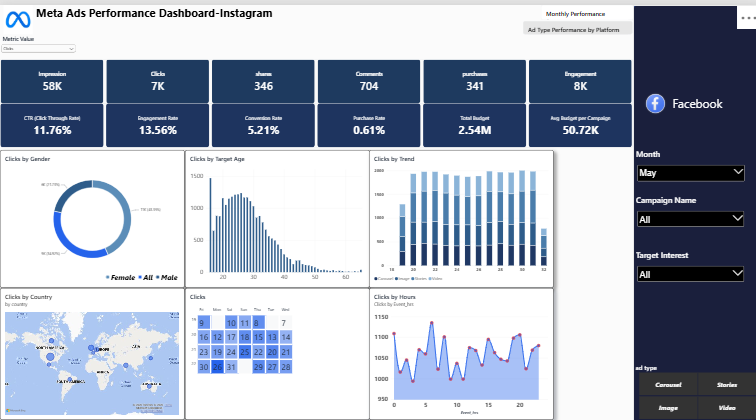

The dashboard page shown, as its layout file describes it:
{"tool":"powerbi","page":{"name":"Instagram","canvas":[2560,1416],"ordinal":0},"visuals":[{"type":"shape","box":[2126.6,0,433.3,1407.5],"z":1000},{"type":"cardVisual","fields":{"Data":["Measure_Table.Impression","Measure_Table.Clicks","Measure_Table.shares","Measure_Table.Comments","Measure_Table.purchases","Measure_Table.Engagement"]},"box":[0,181.2,2126.8,150.1],"z":2000},{"type":"cardVisual","fields":{"Data":["Measure_Table.CTR (Click_Through_Rate)","Measure_Table.Engagement Rate","Measure_Table.Conversion Rate","Measure_Table.Purchase_rate","Measure_Table.Total_Budget","Measure_Table.Avg.budget.per.Camp"]},"box":[0,330,2126.8,150.1],"z":3000},{"type":"textbox","box":[121.8,0,977,51],"z":4000},{"type":"image","box":[0,0,122,98],"z":5000},{"type":"slicer","fields":{"Values":["ads (2).ad_type"]},"box":[2126.8,1203.6,433.3,189.7],"z":7000},{"type":"donutChart","fields":{"Category":["ads (2).target_gender","users.user_gender"],"Y":["Measure_Table.Clicks"]},"box":[0,486.7,620,463.3],"z":8000},{"type":"slicer","fields":{"Values":["Metric Value.Metric Value"]},"box":[0,99.1,257.7,76.5],"z":9000},{"type":"clusteredColumnChart","fields":{"Category":["users.user_age"],"Y":["Measure_Table.Clicks"]},"box":[620,486.7,620,463.3],"z":10000},{"type":"map","fields":{"Category":["users.country"],"Size":["Measure_Table.Clicks"]},"box":[0,950,620,443.3],"z":11000},{"type":"pivotTable","title":"Monthly Performance Summary","fields":{"Rows":["Calender_date.Month"],"Values":["Measure_Table.Clicks"]},"box":[1816.7,0,310,50],"z":12000},{"type":"pivotTable","fields":{"Columns":["Calender_date.Day_Name"],"Rows":["Calender_date.Week_Number"],"Values":["Min(Calender_date.Day_Number)"]},"box":[620,950,620,443.3],"z":13000},{"type":"columnChart","fields":{"Category":["Calender_date.Week_Number"],"Series":["ads (2).ad_type"],"Y":["Measure_Table.Clicks"]},"box":[1240,486.7,620,463.3],"z":14000},{"type":"areaChart","fields":{"Category":["ad_events.Event_hrs"],"Y":["Measure_Table.Clicks"]},"box":[1240,950,620,443.3],"z":15000},{"type":"pivotTable","title":"Ad Type Performance by Platform","fields":{"Columns":["ads (2).ad_platform"],"Rows":["ads (2).ad_type"],"Values":["Measure_Table.Clicks"]},"box":[1758.7,53.8,368.2,45.3],"z":16000},{"type":"slicer","title":"Month","fields":{"Values":["Calender_date.Month"]},"box":[2156.9,487.1,369.6,131],"z":17000},{"type":"slicer","title":"Campaign Name ","fields":{"Values":["campaigns.name"]},"box":[2156.9,651.8,368.2,130.3],"z":18000},{"type":"slicer","title":"Target Interest","fields":{"Values":["ads (2).target_interests"]},"box":[2156.9,819.7,368,130],"z":19000},{"type":"actionButton","box":[2214,268.8,312.4,147.8],"z":20000},{"type":"image","box":[2156.9,305.7,90.7,73.9],"z":20500}]}

Visuals, with their boxes on the page's 2560x1416 design canvas (x1, y1, x2, y2). These are canvas units, not pixel positions in the 756x420 screenshot, which may show the page scaled, cropped or inside an application window:
shape: crop(2127, 0, 2560, 1408)
cardVisual - Measure_Table.Impression x Measure_Table.Clicks: crop(0, 181, 2127, 331)
cardVisual - Measure_Table.CTR (Click_Through_Rate) x Measure_Table.Engagement Rate: crop(0, 330, 2127, 480)
textbox: crop(122, 0, 1099, 51)
image: crop(0, 0, 122, 98)
slicer - ads (2).ad_type: crop(2127, 1204, 2560, 1393)
donutChart - ads (2).target_gender x users.user_gender: crop(0, 487, 620, 950)
slicer - Metric Value.Metric Value: crop(0, 99, 258, 176)
clusteredColumnChart - users.user_age x Measure_Table.Clicks: crop(620, 487, 1240, 950)
map - users.country x Measure_Table.Clicks: crop(0, 950, 620, 1393)
"Monthly Performance Summary" pivotTable: crop(1817, 0, 2127, 50)
pivotTable - Calender_date.Day_Name x Calender_date.Week_Number: crop(620, 950, 1240, 1393)
columnChart - Calender_date.Week_Number x ads (2).ad_type: crop(1240, 487, 1860, 950)
areaChart - ad_events.Event_hrs x Measure_Table.Clicks: crop(1240, 950, 1860, 1393)
"Ad Type Performance by Platform" pivotTable: crop(1759, 54, 2127, 99)
"Month" slicer: crop(2157, 487, 2526, 618)
"Campaign Name " slicer: crop(2157, 652, 2525, 782)
"Target Interest" slicer: crop(2157, 820, 2525, 950)
actionButton: crop(2214, 269, 2526, 417)
image: crop(2157, 306, 2248, 380)
